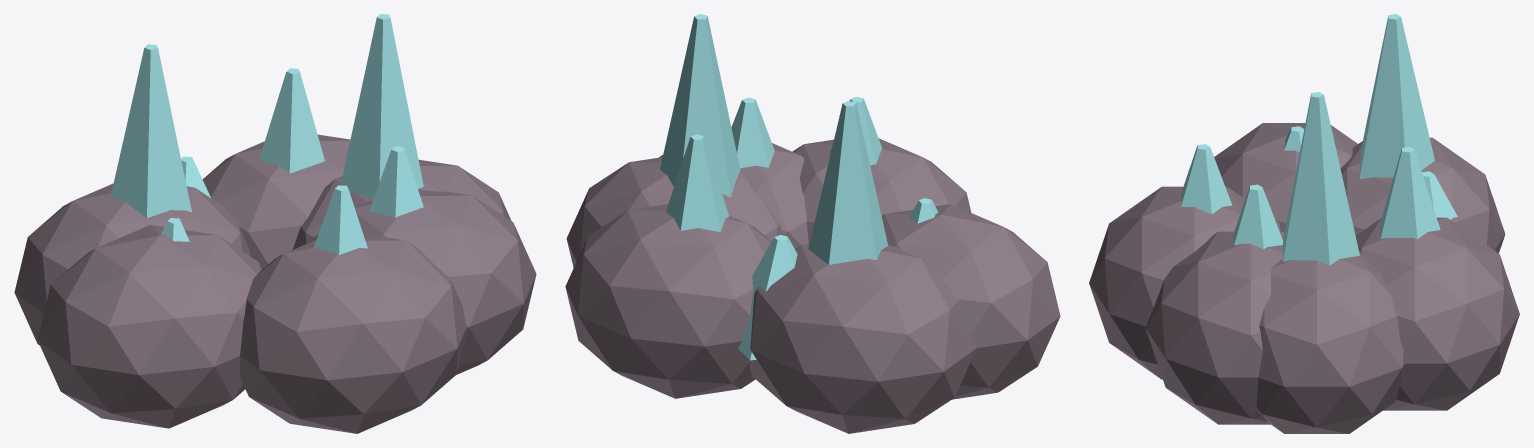
Rendered from ore_ice.glb.
The picture shows the model from 3 angles, left to right: view 1: azimuth 30°, elevation 25°; view 2: azimuth 150°, elevation 25°; view 3: azimuth 270°, elevation 25°; orthographic projection. The views are drawn at different scales.
Parts seen in each view (by area): view 1: Basalt cluster, Mineral crystal; view 2: Basalt cluster, Mineral crystal; view 3: Basalt cluster, Mineral crystal.
Part boxes in pixels (bbox=[...]): Basalt cluster: bbox=[14, 134, 536, 433]; Mineral crystal: bbox=[110, 14, 423, 254]; Basalt cluster: bbox=[565, 138, 1060, 433]; Mineral crystal: bbox=[660, 14, 938, 360]; Basalt cluster: bbox=[1089, 123, 1519, 433]; Mineral crystal: bbox=[1181, 14, 1457, 265].
Bounding box in the file's own units: 2.92 × 2.03 × 2.45.
